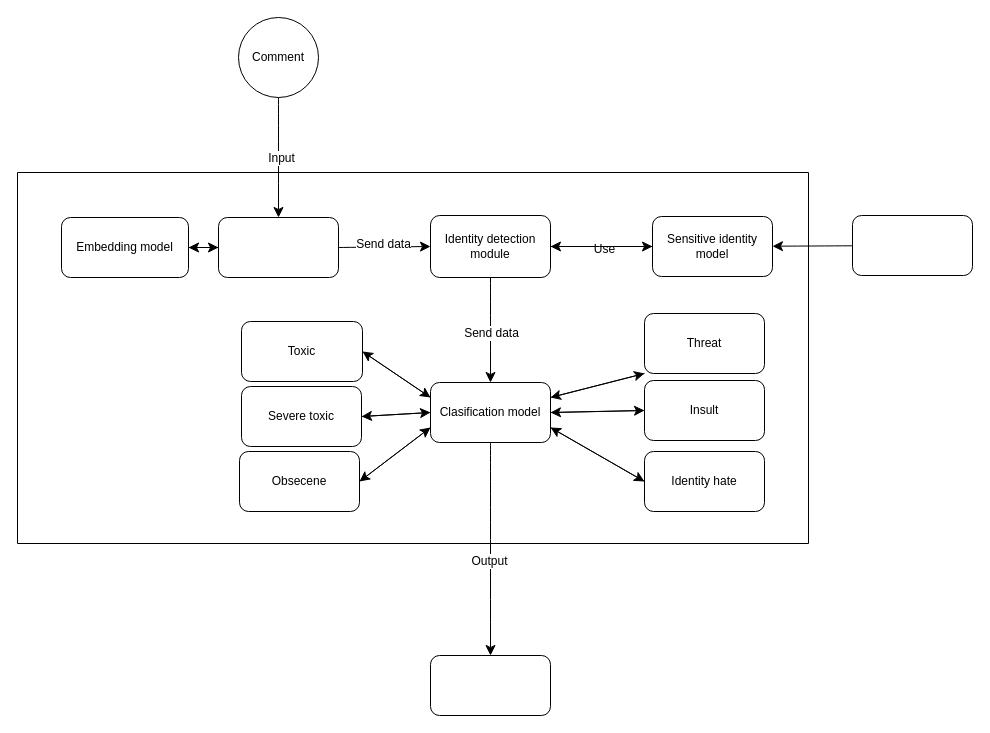
The diagram is 990 pixels wide and 733 high, and some of its shapes have lost their labels. The shapes that lost their labels are listed below. From the top down, each one's box as (x1, y1, x2, y2) in pixels, then its label:
(218, 216, 338, 278): Text processor module
(852, 214, 972, 276): Annotators
(430, 654, 550, 716): Prediction of toxicity in the comment
